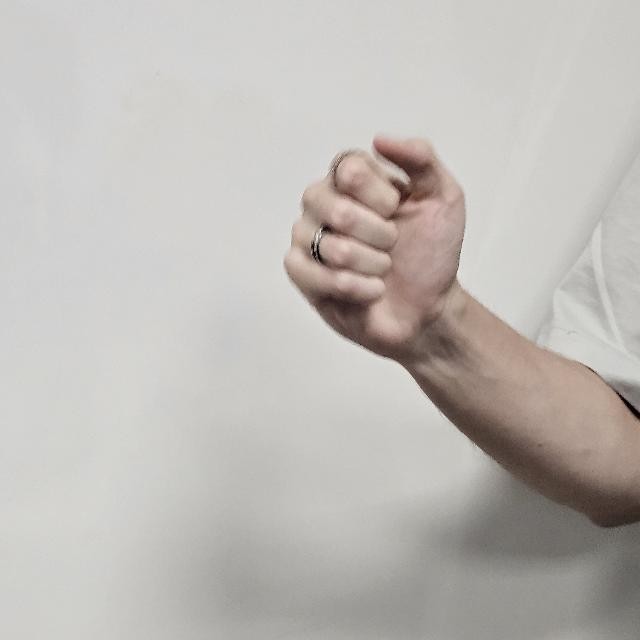Quadro: (272, 127, 478, 366)
